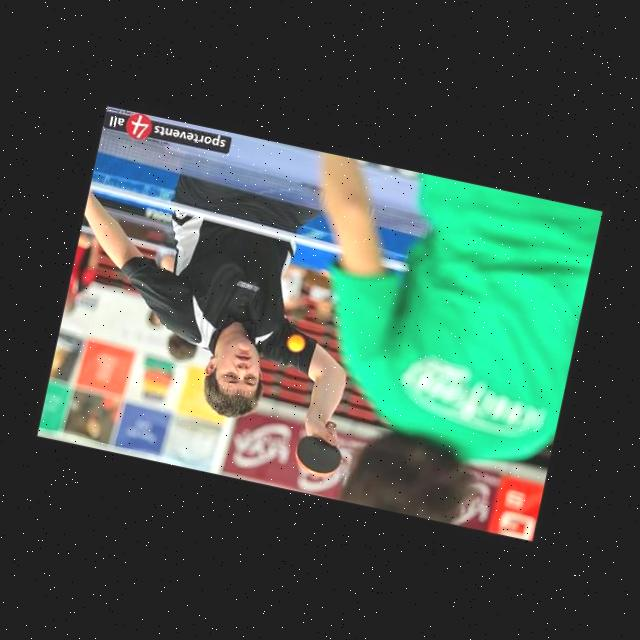ping-pong-ball: (283, 330, 305, 352)
